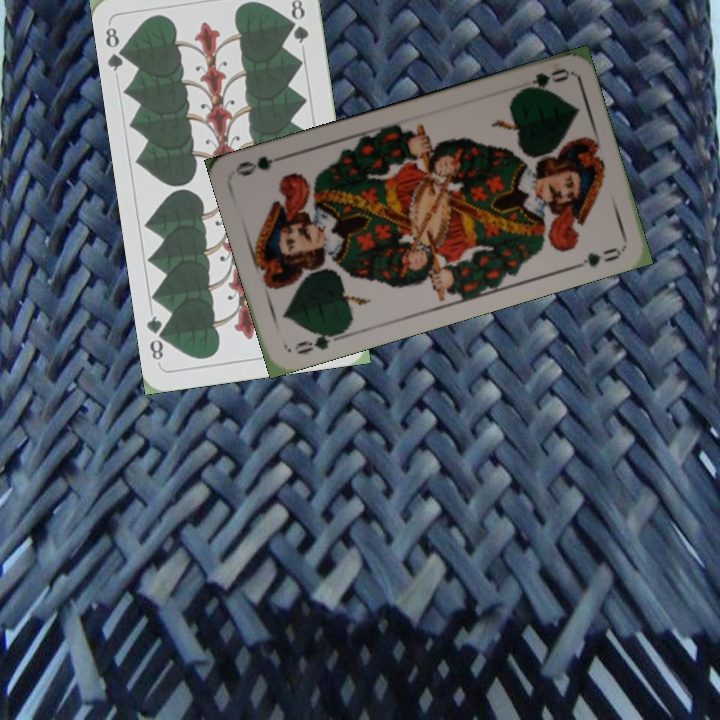G8: (101, 23, 132, 74)
GO: (513, 64, 570, 97), (290, 328, 346, 357)
